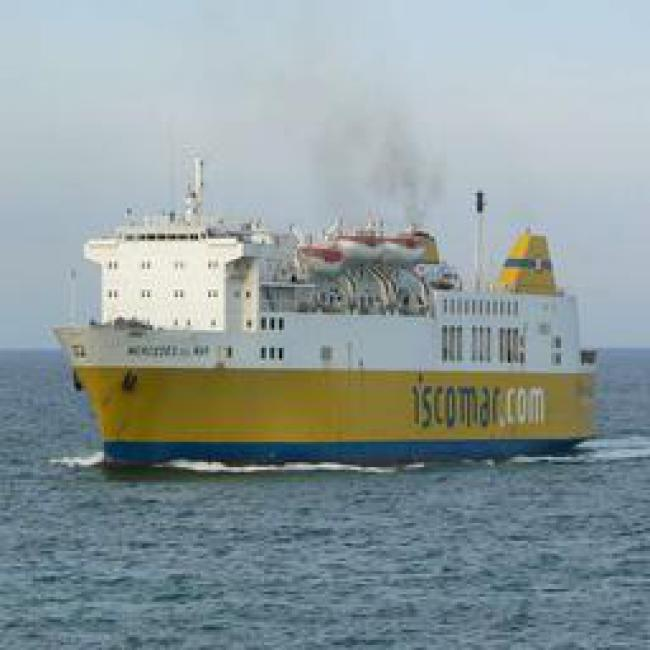Ship: (42, 212, 613, 462)
